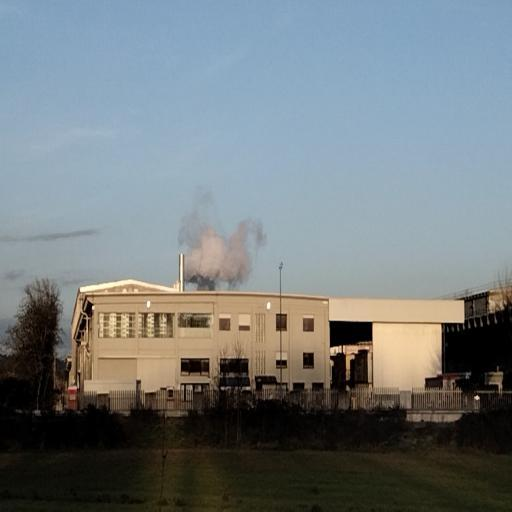leakage: (175, 188, 269, 293)
